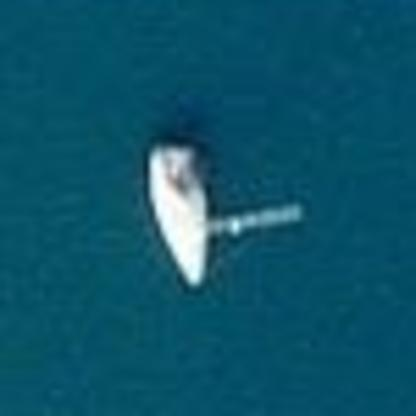ship: (120, 130, 318, 297)
